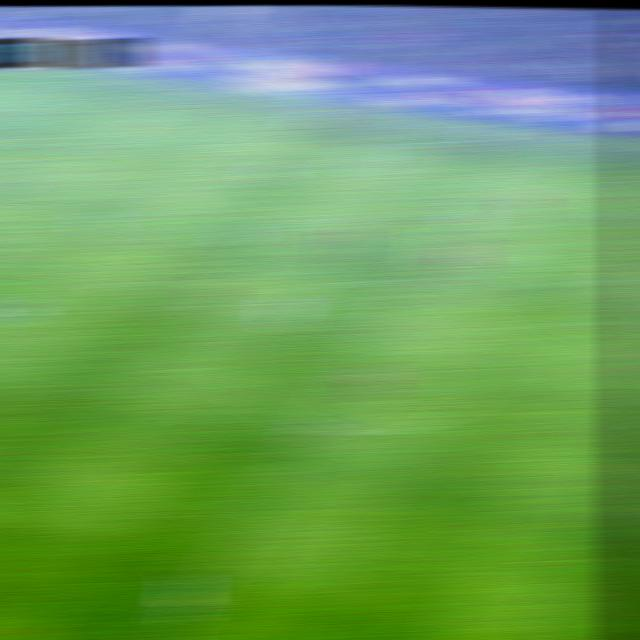bigarea_top_inner: (44, 137, 86, 159)
halfcircle_bottom: (289, 413, 334, 439)
halfcircle_top: (386, 274, 429, 298)
midline_top_intersection: (487, 138, 521, 159)
